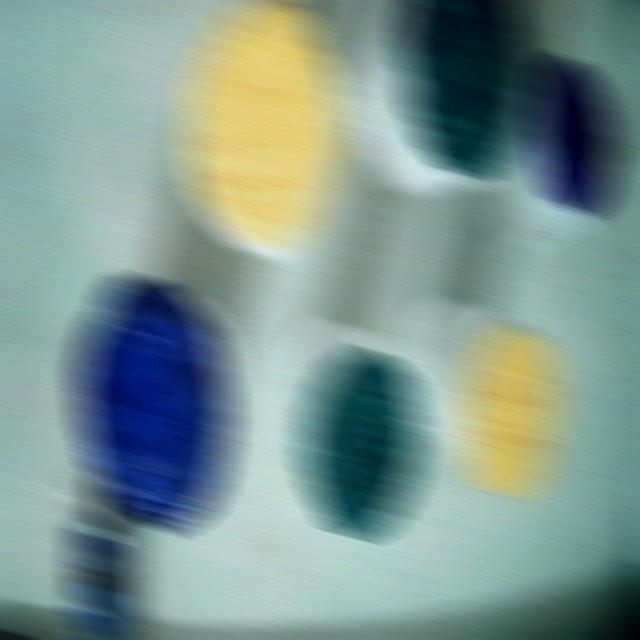blue: (75, 276, 232, 533), (532, 55, 616, 218)
green: (299, 347, 422, 540), (396, 0, 530, 175)
yellow: (180, 0, 343, 253), (460, 323, 561, 496)
